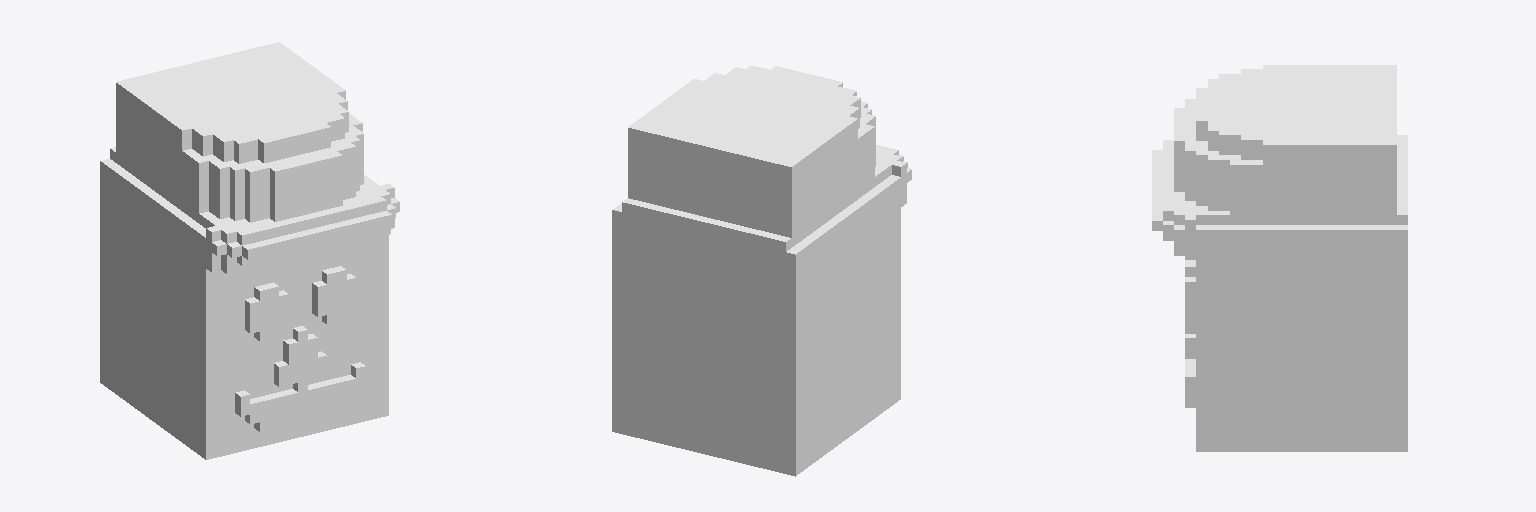
Rendered from Requester-0.obj.
The picture shows the model from 3 angles: view 1: azimuth 30°, elevation 25°; view 2: azimuth 150°, elevation 25°; view 3: azimuth 270°, elevation 25°; orthographic projection.
Parts seen in each view (by area): view 1: object 1; view 2: object 1; view 3: object 1.
Part boxes in pixels (left/top/right/bottom): object 1: left=100, top=42, right=399, bottom=459; object 1: left=612, top=65, right=911, bottom=476; object 1: left=1152, top=65, right=1407, bottom=451.
Size of the model in its own units: 1.9 by 3 by 2.3.